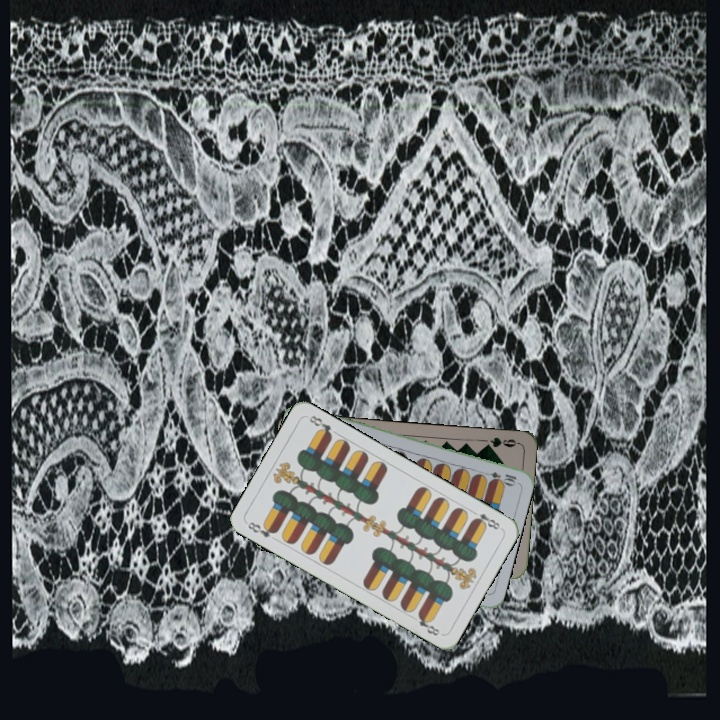E10: (478, 467, 519, 486)
E8: (467, 506, 503, 532), (243, 518, 280, 540)
G9: (480, 433, 521, 451)
